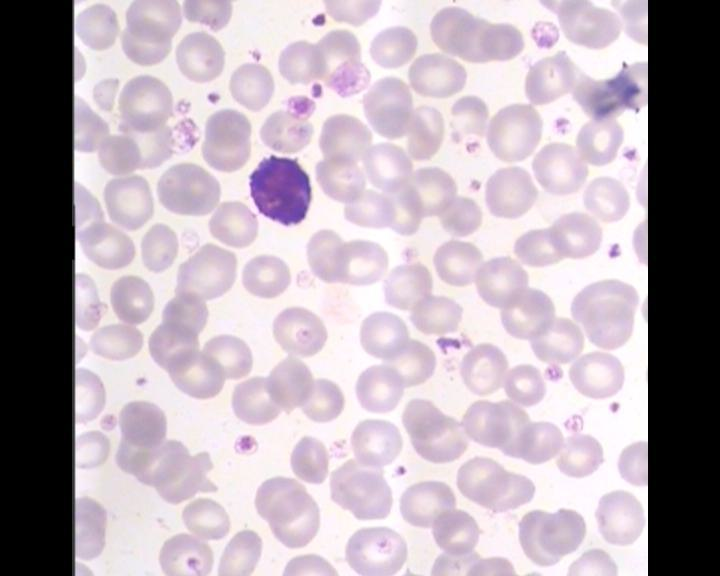baso: (247, 149, 315, 232)
